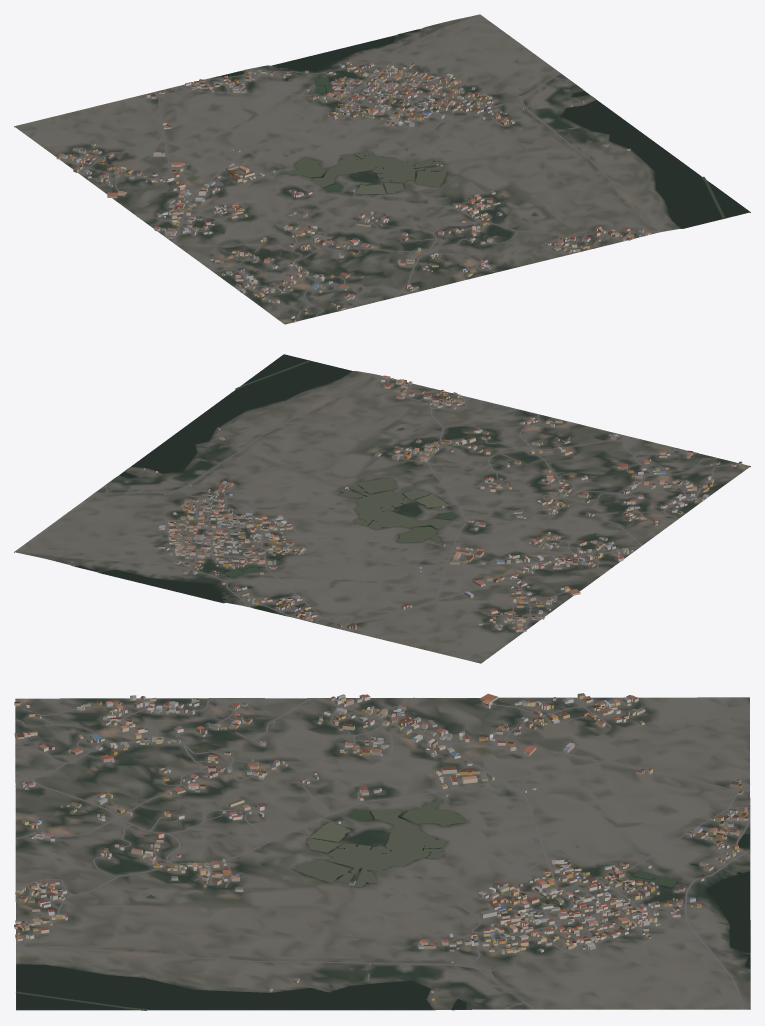
The picture shows the model from 3 angles, top to bottom: view 1: azimuth 30°, elevation 25°; view 2: azimuth 150°, elevation 25°; view 3: azimuth 270°, elevation 25°; orthographic projection. The views are drawn at different scales.
Visible parts, largest first — view 1: ground, buildings, water, roads; view 2: ground, buildings, water, roads; view 3: ground, buildings, water, roads.
Boxes of the visible parts, x1,y1,x2,y2 form: ground: [14, 14, 750, 324]; buildings: [56, 60, 650, 322]; water: [209, 29, 749, 228]; roads: [60, 16, 662, 318]; ground: [14, 355, 750, 663]; buildings: [143, 375, 742, 632]; water: [75, 354, 457, 615]; roads: [17, 373, 731, 631]; ground: [15, 697, 750, 1010]; buildings: [14, 693, 747, 1001]; water: [16, 798, 749, 1010]; roads: [14, 697, 750, 1009].
Bounding box in the file's own units: 1412 × 20.23 × 1406.
